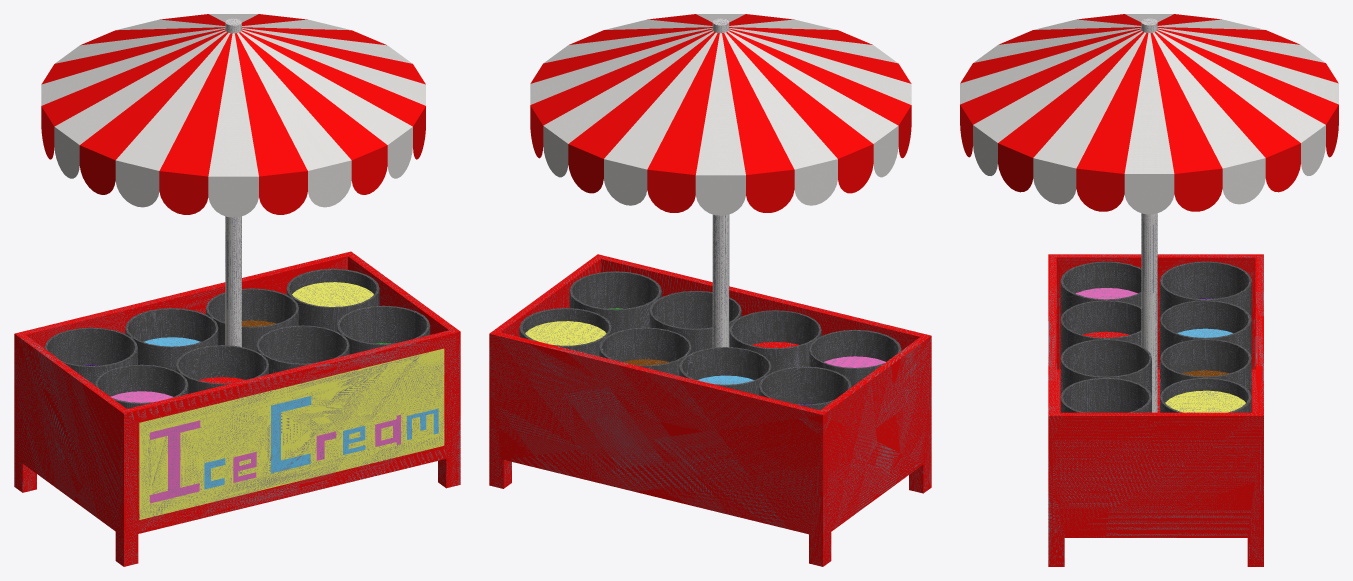
3 views of the same model, side by side, from view 1: azimuth 30°, elevation 25°; view 2: azimuth 150°, elevation 25°; view 3: azimuth 270°, elevation 25° (orthographic).
Visible parts, largest first — view 1: SketchUp (×16), Parasol (×22); view 2: SketchUp (×13), Parasol (×22); view 3: Parasol (×22), SketchUp (×14).
Boxes of the visible parts, left/top/right/bottom form: SketchUp (×16): left=14, top=251, right=460, bottom=566; Parasol (×22): left=41, top=18, right=425, bottom=346; SketchUp (×13): left=489, top=254, right=931, bottom=566; Parasol (×22): left=530, top=18, right=911, bottom=347; Parasol (×22): left=960, top=18, right=1338, bottom=412; SketchUp (×14): left=1048, top=254, right=1263, bottom=566.
Size of the model in its own units: 187 by 182 by 244.
